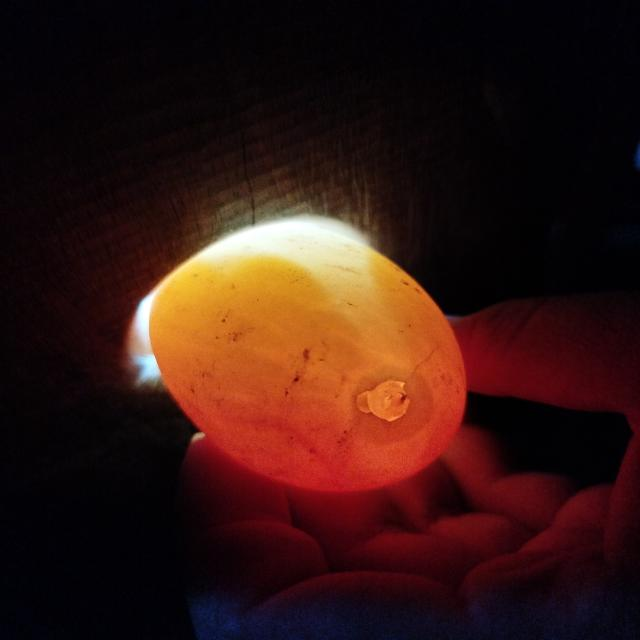Rachadura: (356, 381, 412, 422)
